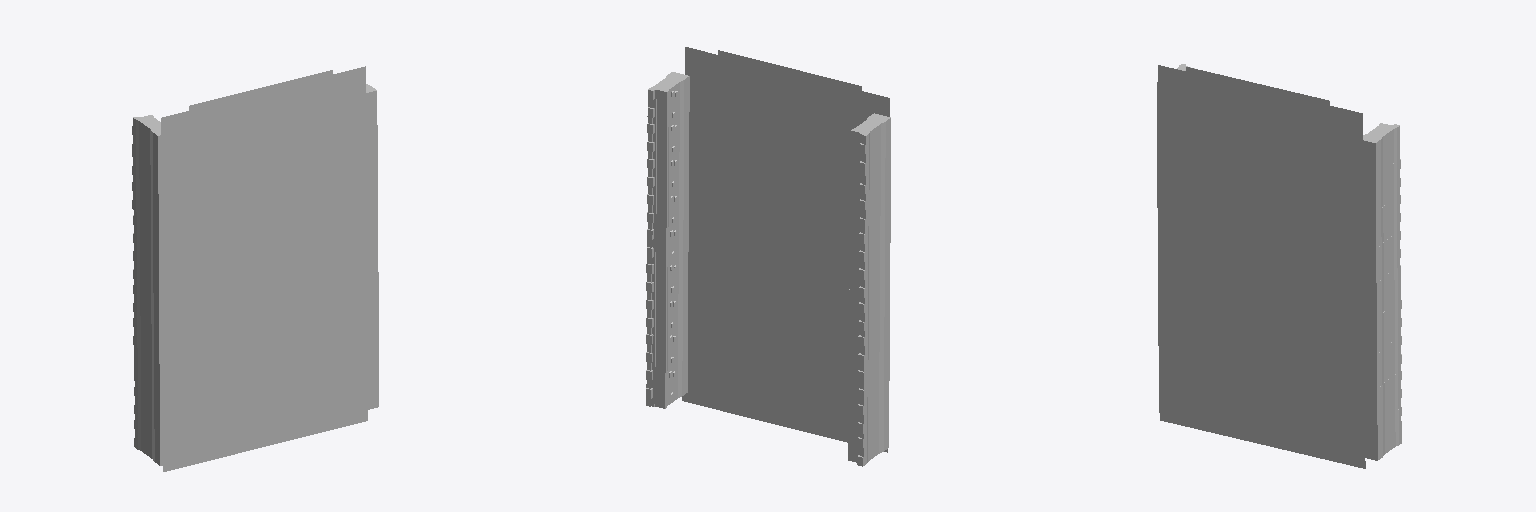
File: wall-narrow.002.obj
3 views of the same model, side by side, from view 1: azimuth 30°, elevation 25°; view 2: azimuth 150°, elevation 25°; view 3: azimuth 330°, elevation 25° (orthographic).
Parts seen in each view (by area): view 1: wall-narrow.005; view 2: wall-narrow.005; view 3: wall-narrow.005.
Boxes of the visible parts, x1=… form: wall-narrow.005: x1=132, y1=66, x2=378, y2=471; wall-narrow.005: x1=646, y1=47, x2=890, y2=466; wall-narrow.005: x1=1157, y1=64, x2=1401, y2=468.
Bounding box in the file's own units: 6.4 × 9.99 × 1.35.